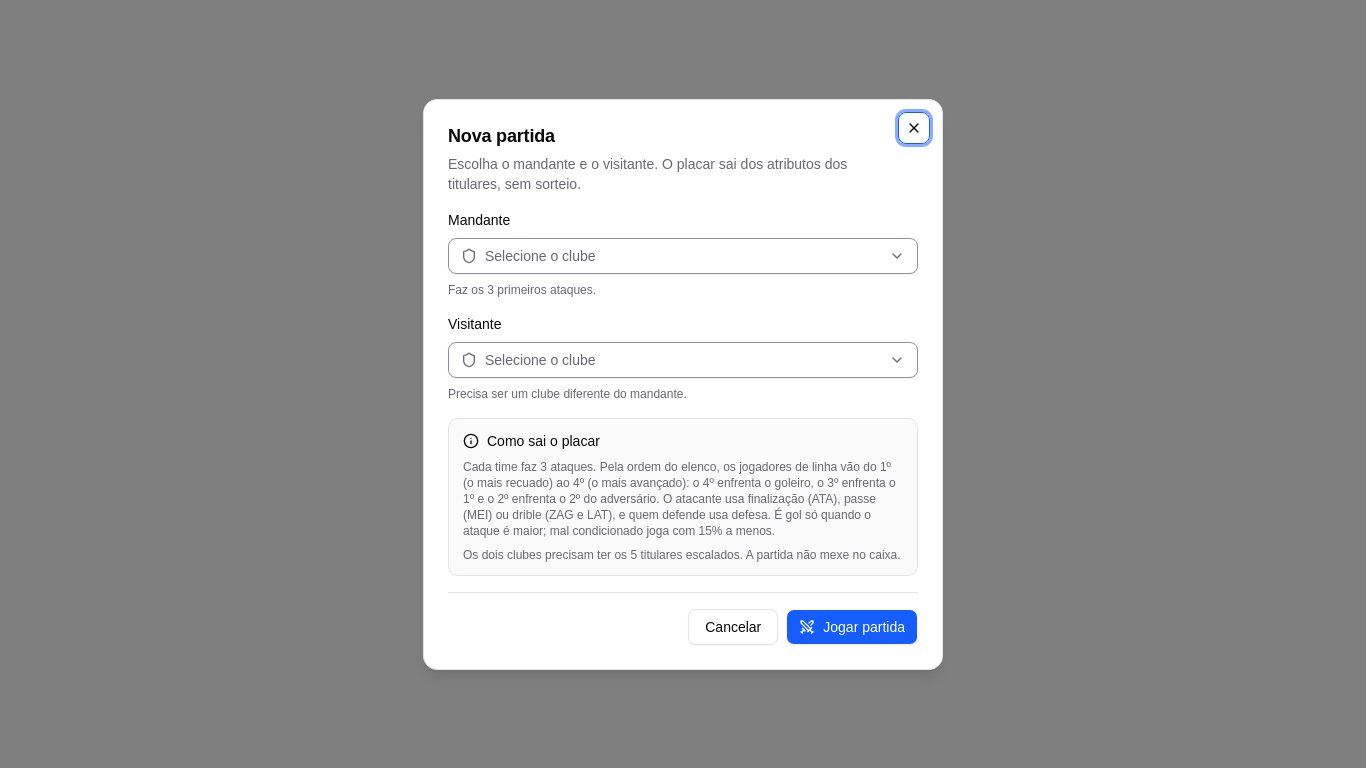
Scenario: NewMatchDialog › marca os dois clubes quando as duas escalações estão incompletas
Click the dropdown named "Mandante" at (540, 256), box x1=448 y1=238 x2=918 y2=274
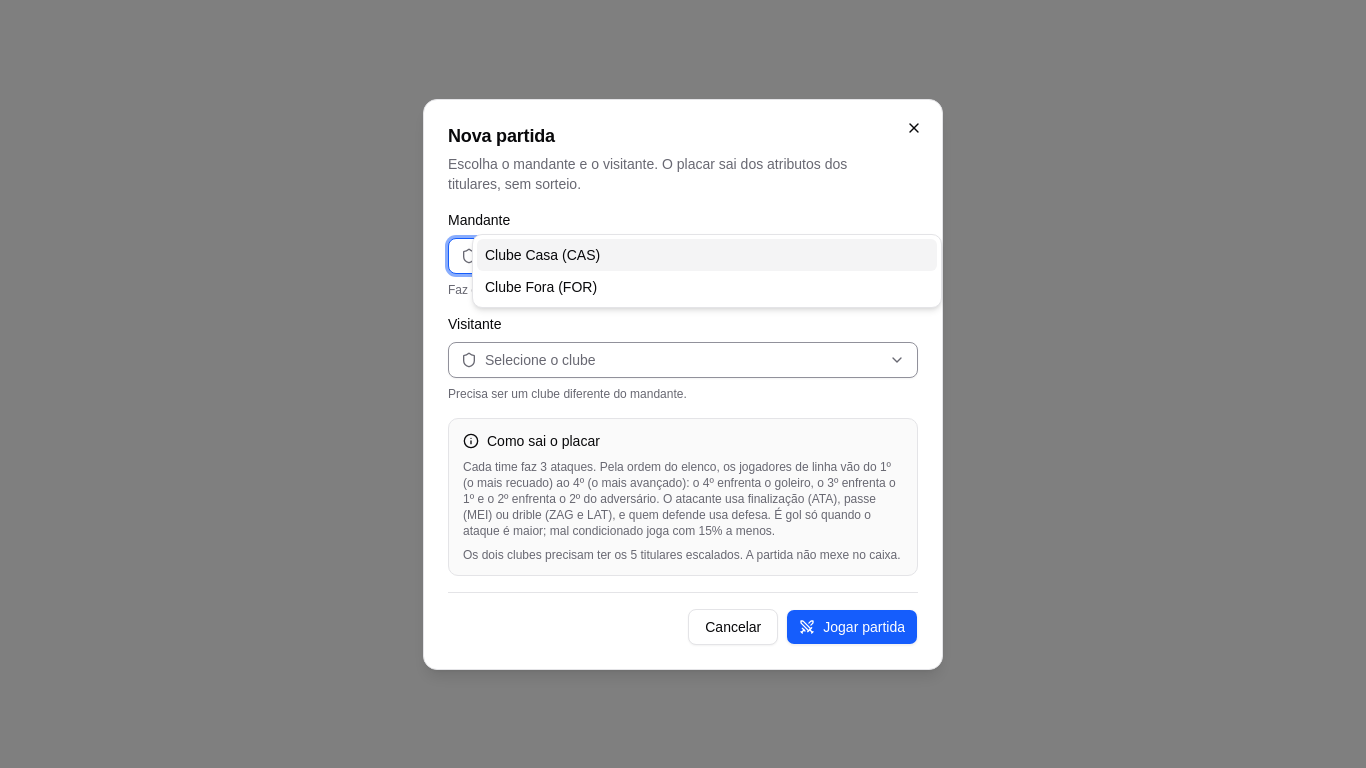
Click the option "Clube Casa (CAS)" at (522, 254), box x1=477 y1=238 x2=937 y2=270
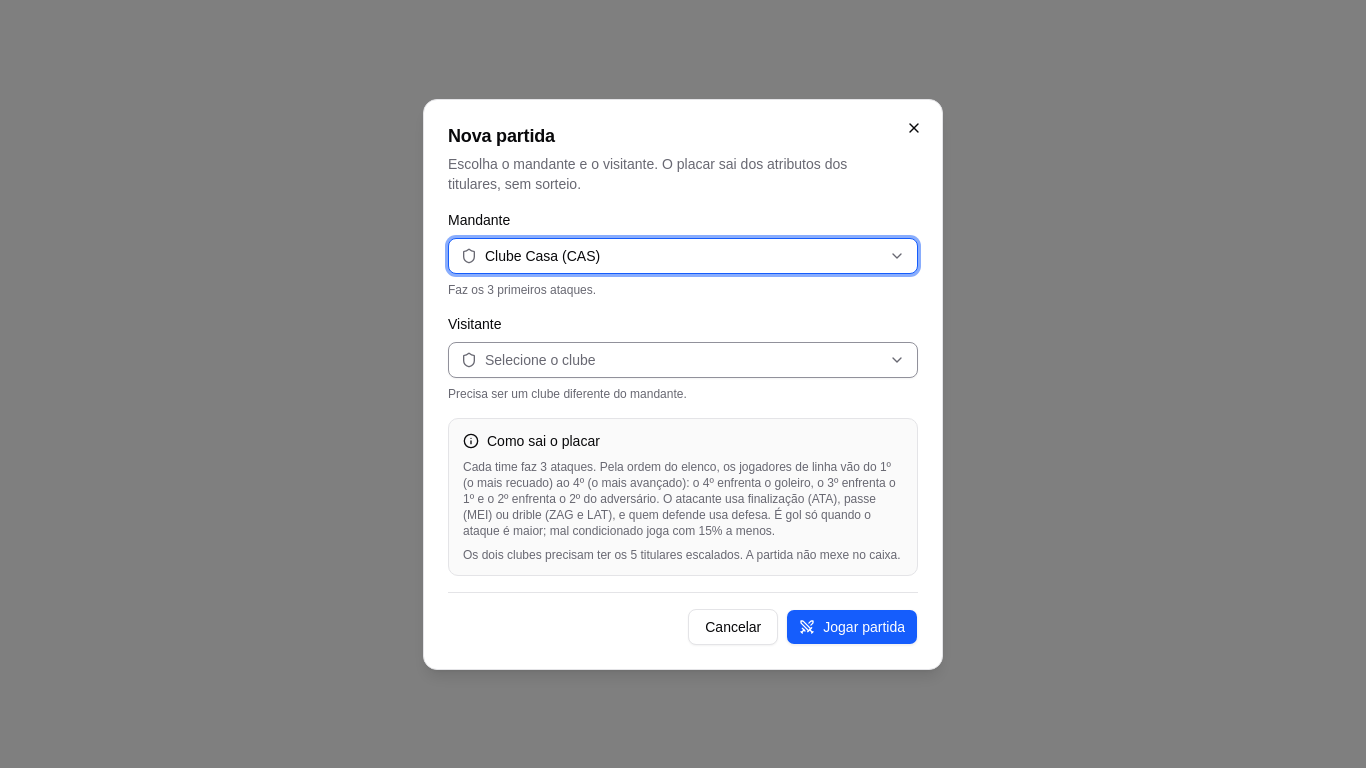
Click the dropdown named "Visitante" at (540, 360), box x1=448 y1=342 x2=918 y2=378
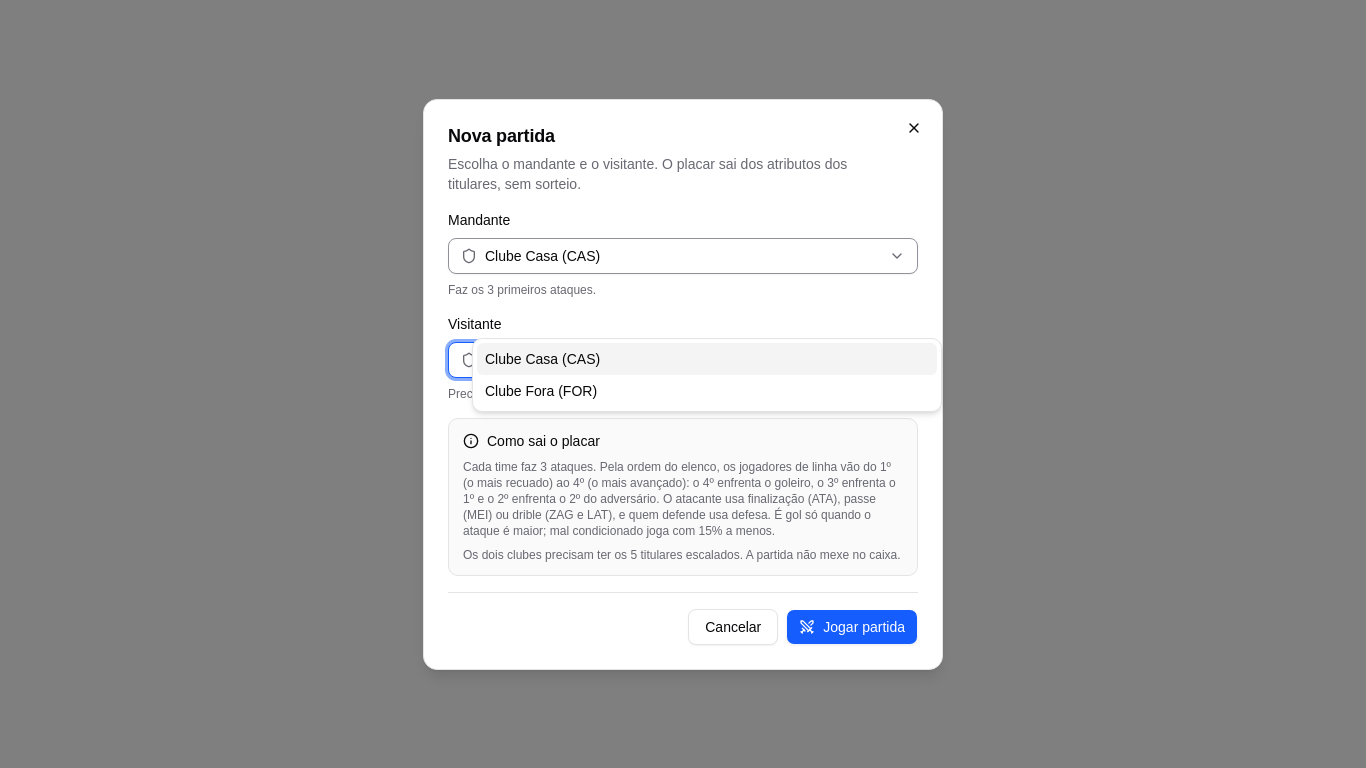
Click the option "Clube Fora (FOR)" at (541, 390), box x1=485 y1=382 x2=597 y2=398
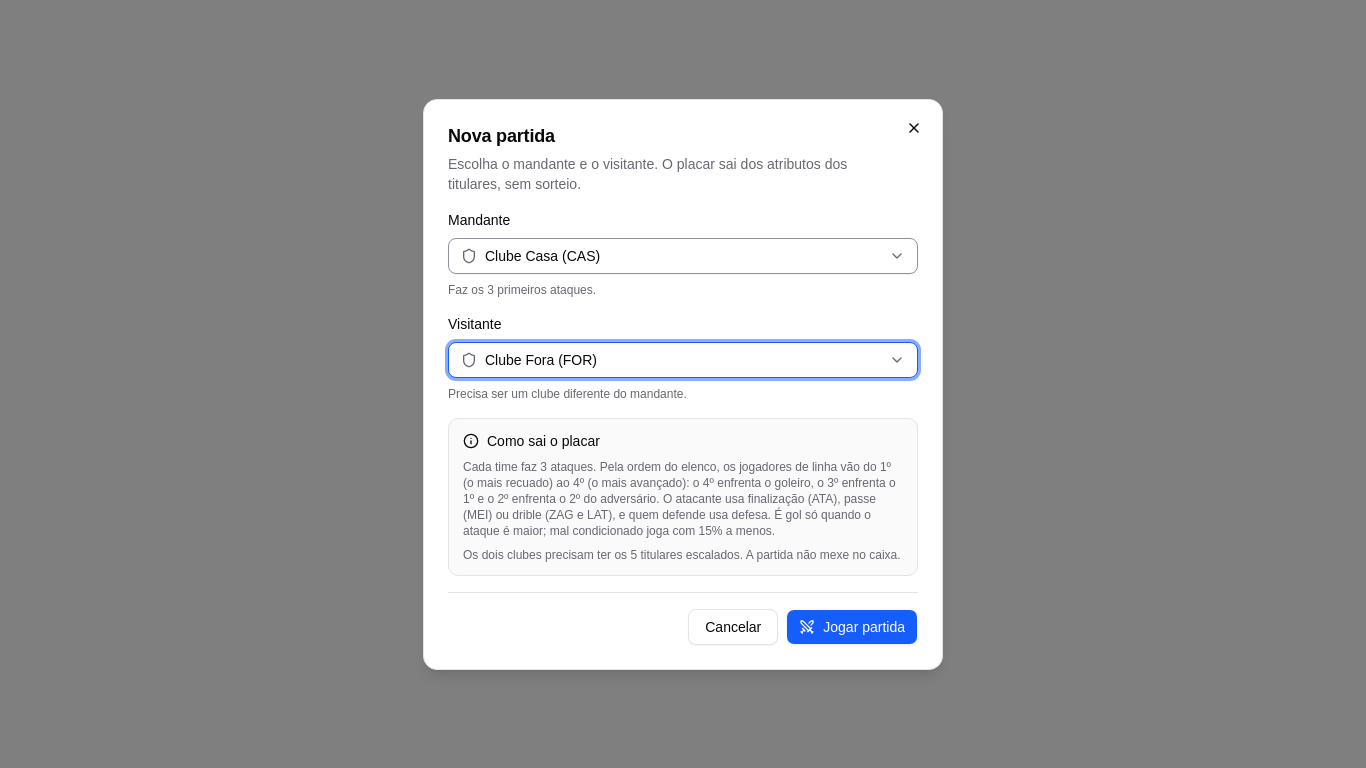
Click the button "Jogar partida" at (852, 626), box x1=786 y1=608 x2=918 y2=644
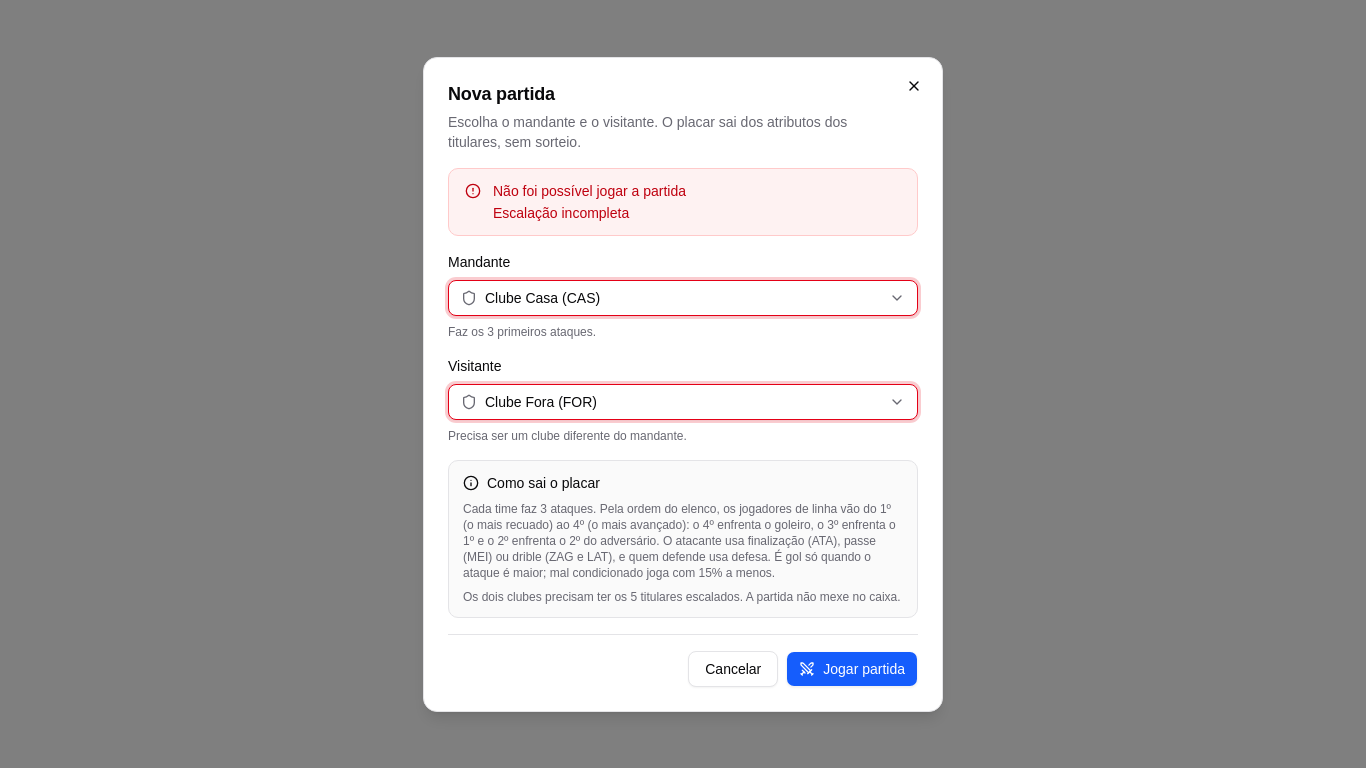
Result: the text "Escalação incompleta" is shown at x1=493 y1=204 x2=629 y2=220
